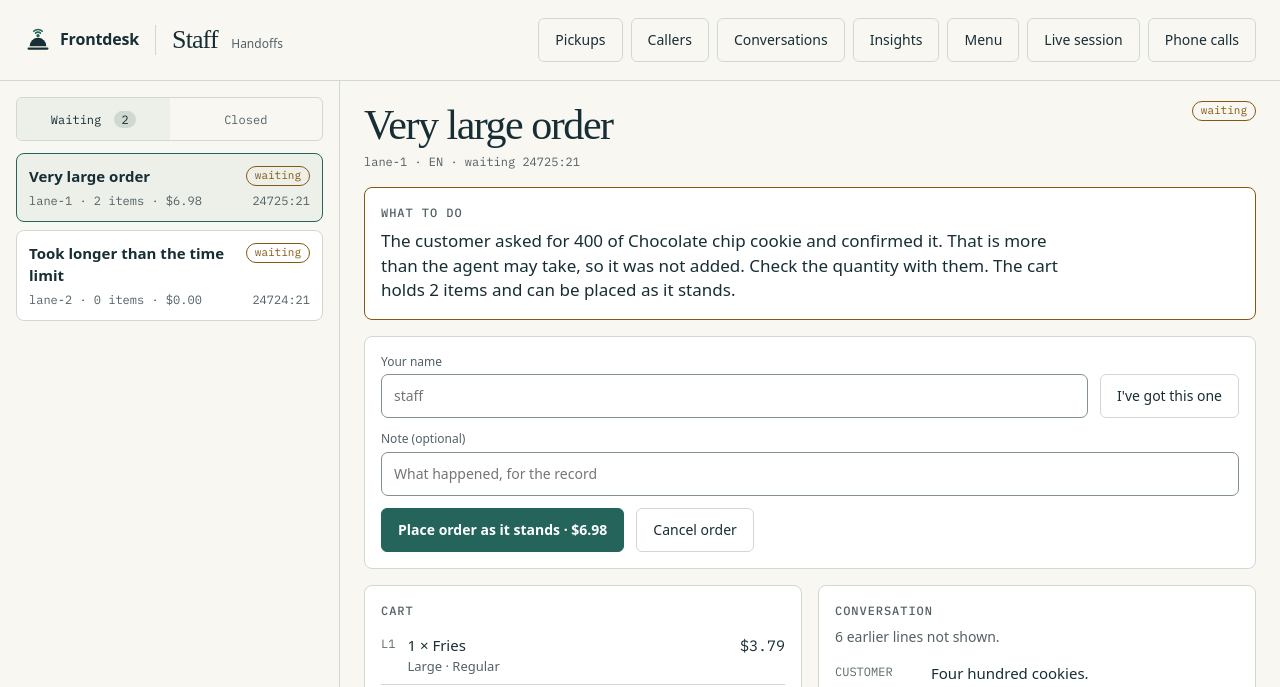
Test: the staff screen › cancels an order and says nothing was ordered
What coordinates should you click on to do the following:
click the button "Cancel order"
I would click on:
 (695, 530)
Its box is [636, 508, 754, 552].
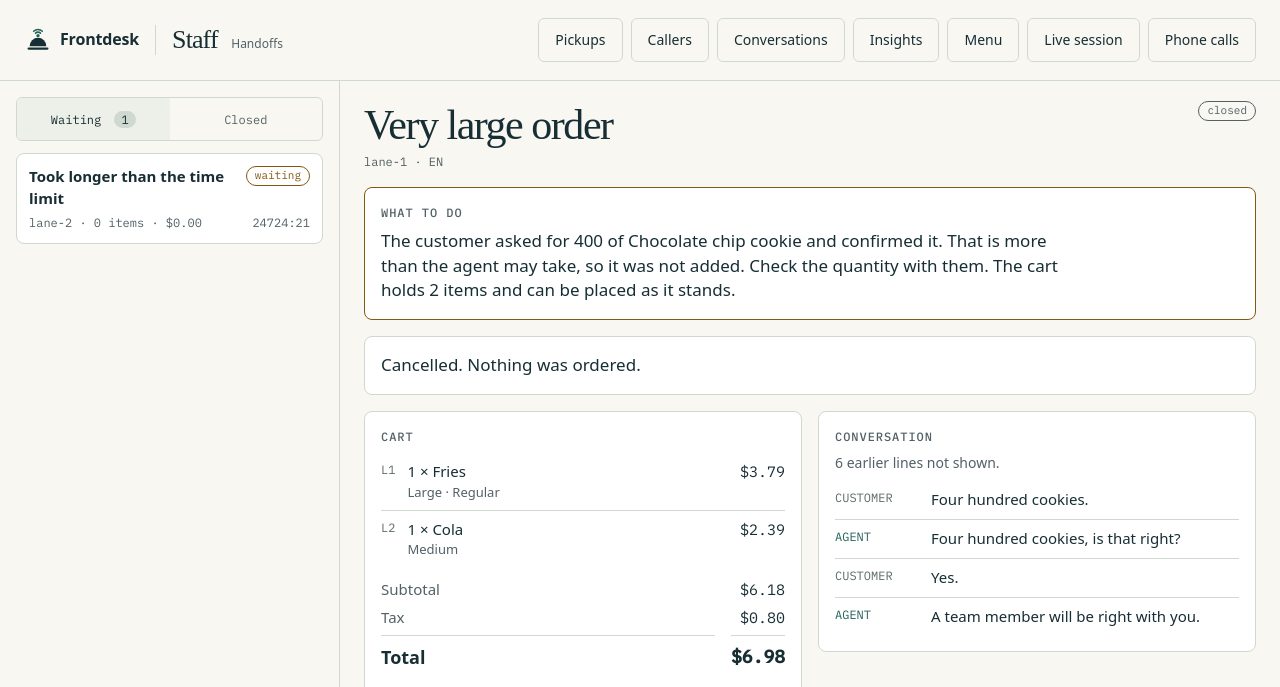
Expected: the element named "Outcome" reads "Cancelled. Nothing was ordered.", [381, 353, 641, 376]
